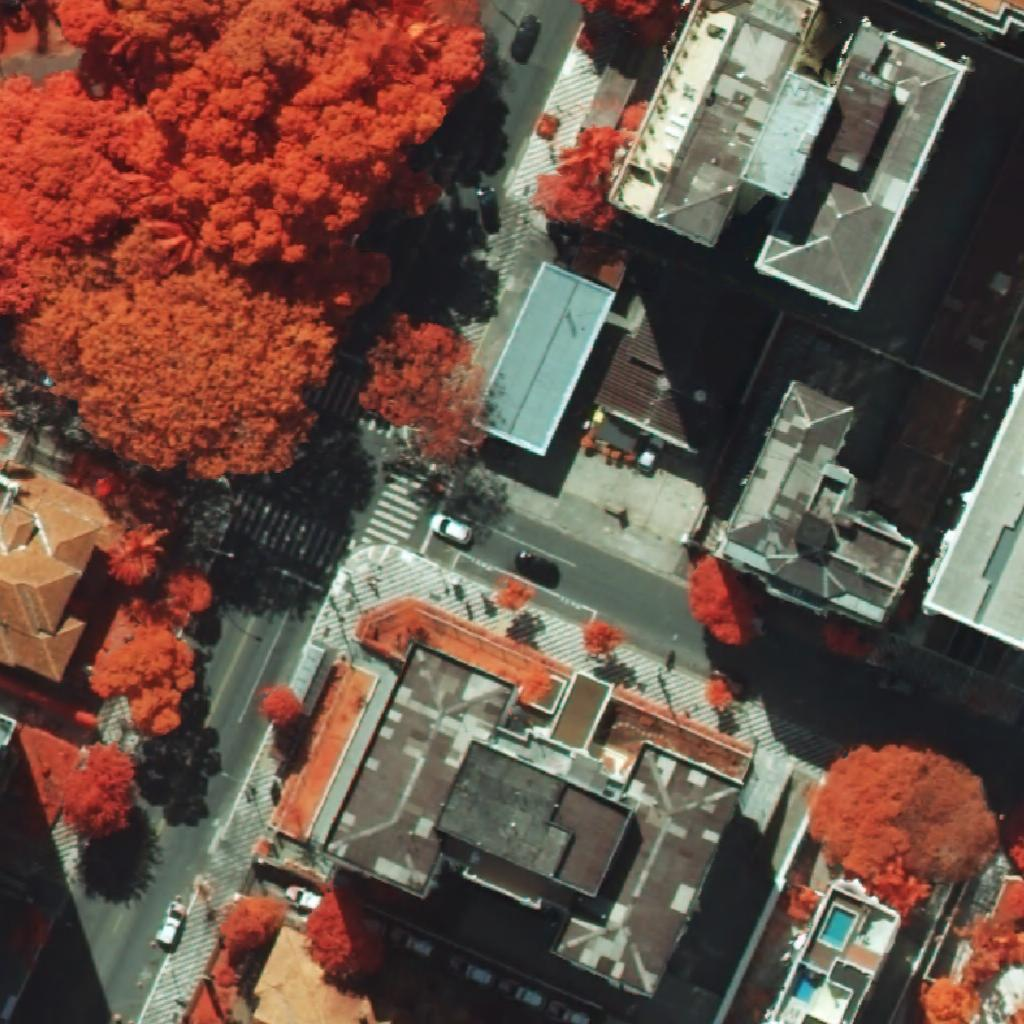pool: (821, 908, 855, 948), (792, 973, 819, 1003)
